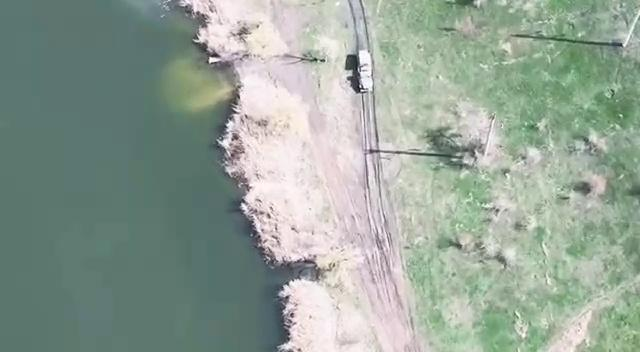vehicle: (358, 50, 373, 92)
